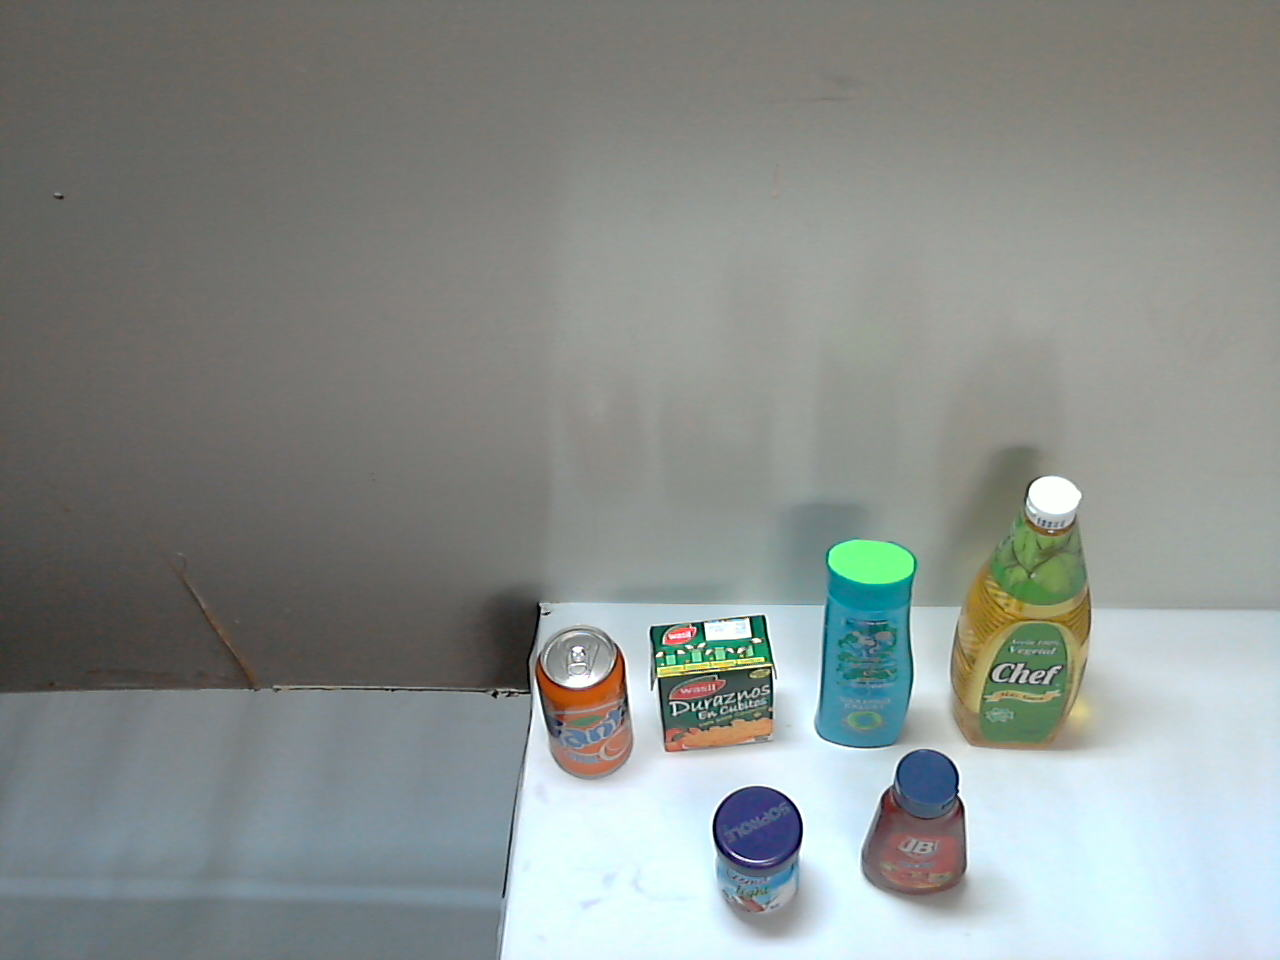azucarero: (717, 710, 857, 867)
cubix: (638, 810, 766, 945)
esponja: (855, 756, 980, 911)
jabon: (973, 772, 1074, 904)
sarten: (430, 625, 721, 960)
uslero: (710, 648, 1215, 786)
